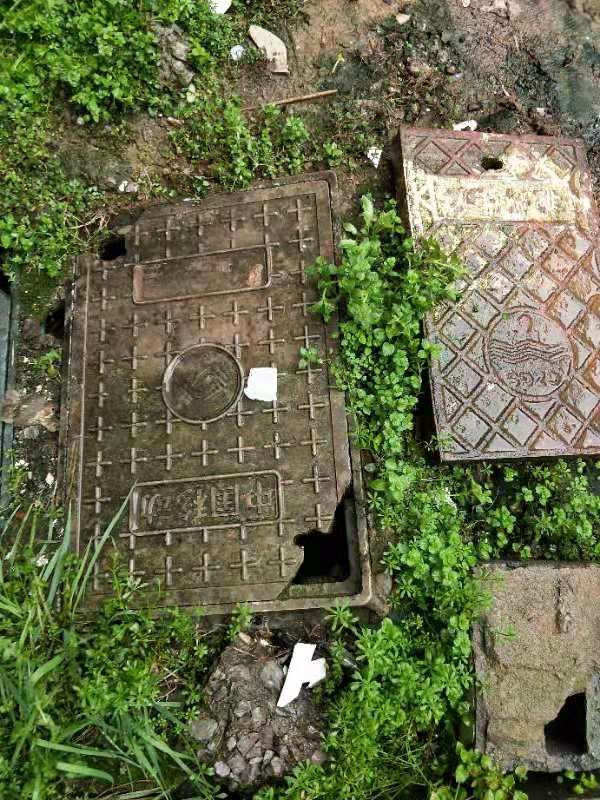broke: (68, 170, 373, 620)
